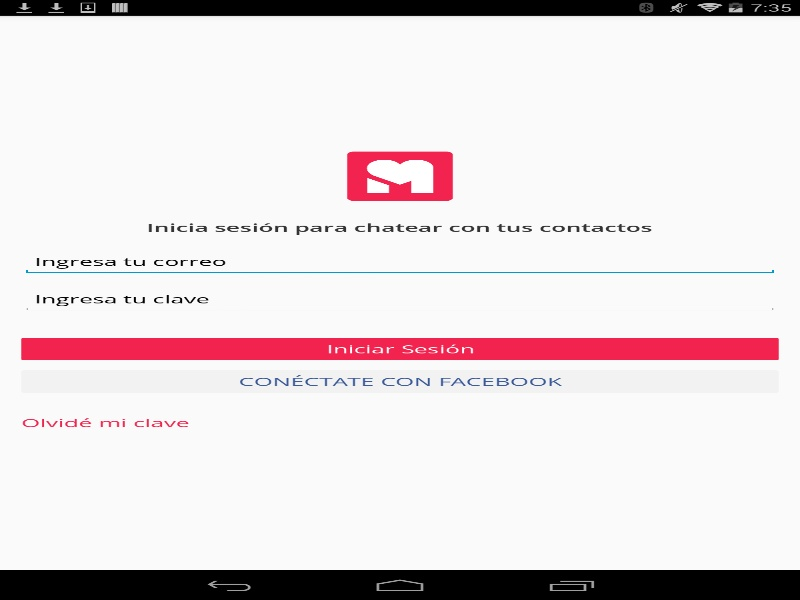Button: (21, 337, 778, 360), (21, 370, 778, 392), (21, 411, 190, 434)
Input: (21, 247, 778, 275), (21, 285, 778, 312)
